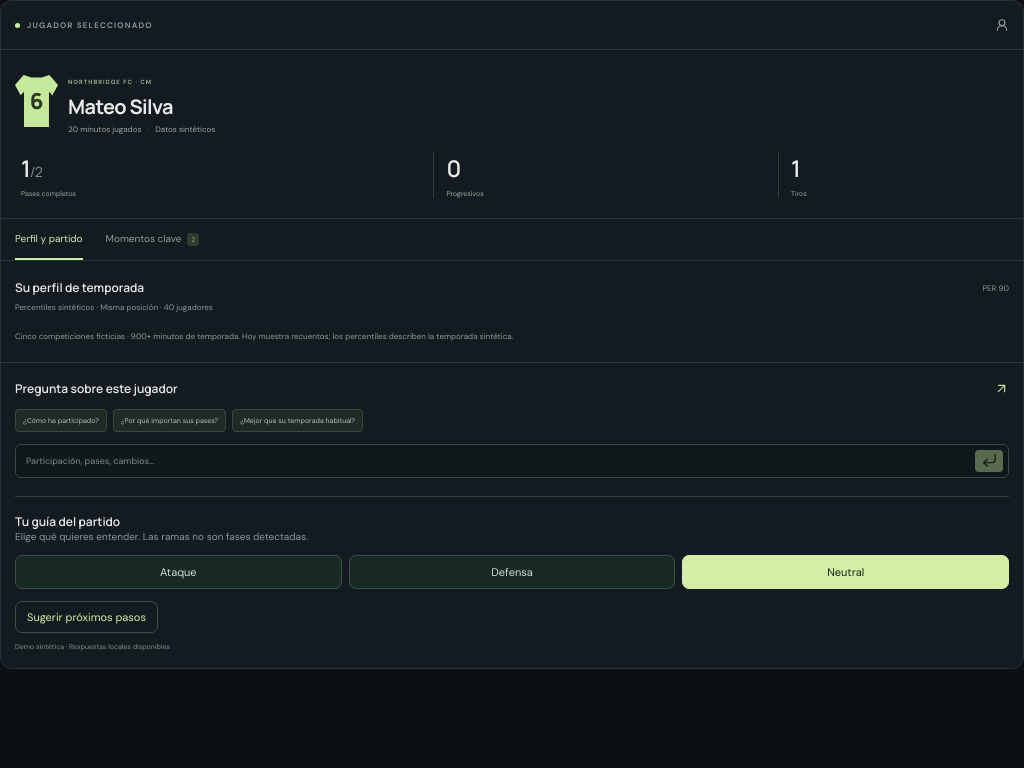
Test: preserves shot and turnover meanings in Spanish moments
What coordinates should you click on to do the following:
click the tab "Momentos clave 2"
I would click on:
 (152, 240)
Its box is [106,219,199,260].
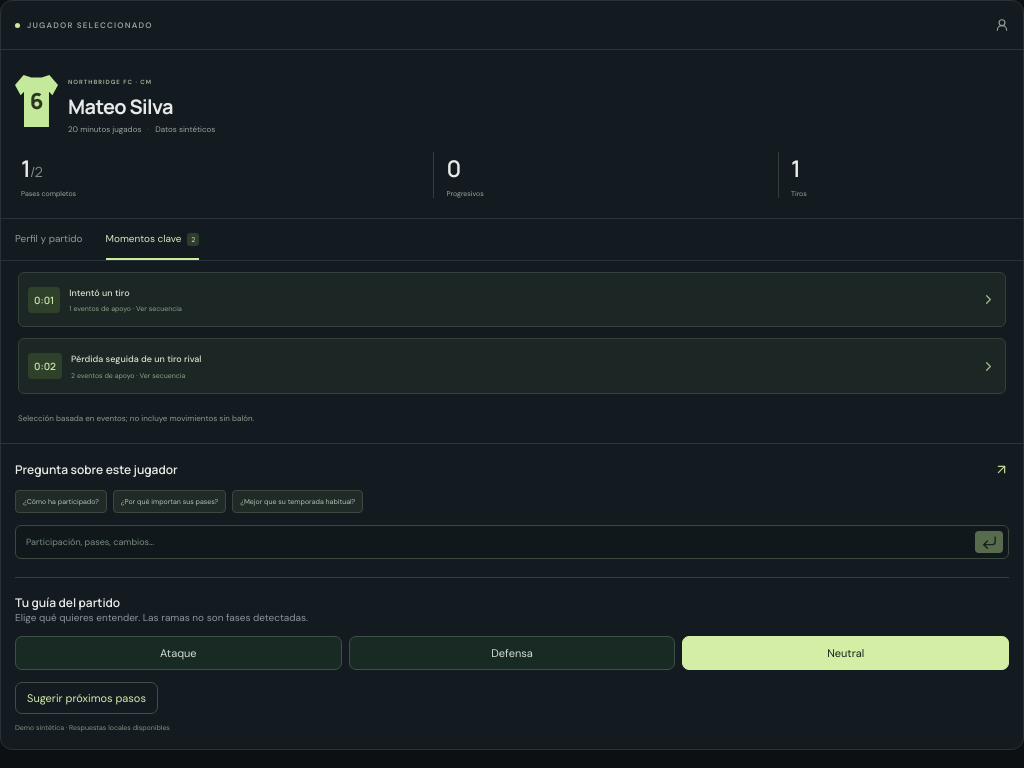
Expected: the text "Intentó un tiro" is shown, [69,287,130,299]
Expected: the text "Pérdida seguida de un tiro rival" is shown, [71,352,202,367]
